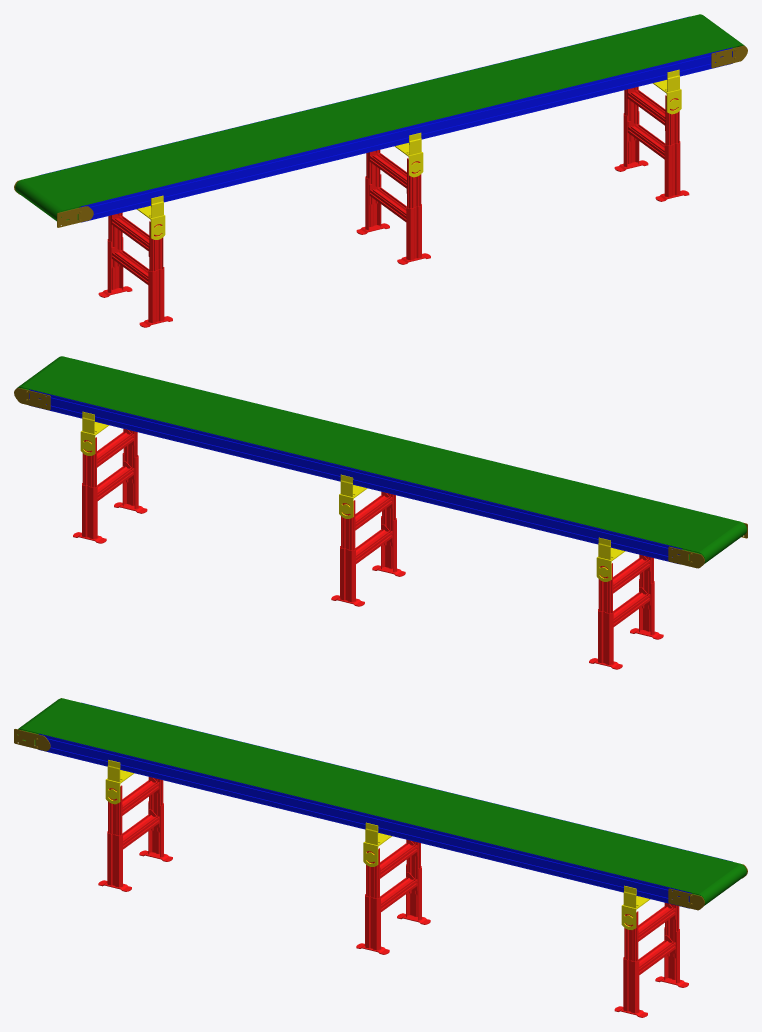
File: Conveyor model-01.FBX
The picture shows the model from 3 angles, top to bottom: view 1: azimuth 30°, elevation 25°; view 2: azimuth 150°, elevation 25°; view 3: azimuth 330°, elevation 25°; orthographic projection.
Parts seen in each view (by area): view 1: Belt, FLAT002, Dorner003, Dorner002, Dorner01, DornerSupport, DornerSupport001, DornerSupport002, NONEZZG003, NONEZZG02, FLAT; view 2: Belt, FLAT, Dorner003, Dorner01, Dorner002, DornerSupport001, DornerSupport002, DornerSupport, NONEZZG004, NONEZZG01; view 3: Belt, FLAT002, Dorner003, Dorner002, Dorner01, DornerSupport, DornerSupport001, DornerSupport002, NONEZZG003, NONEZZG02.
Part boxes in pixels (x1,y1,x2,y2): Belt: [15, 14, 744, 221]; FLAT002: [79, 47, 732, 222]; Dorner003: [614, 86, 689, 201]; Dorner002: [98, 212, 172, 327]; Dorner01: [356, 150, 430, 264]; DornerSupport: [395, 132, 423, 177]; DornerSupport001: [136, 195, 165, 239]; DornerSupport002: [653, 69, 681, 114]; NONEZZG003: [711, 45, 747, 68]; NONEZZG02: [57, 206, 93, 227]; FLAT: [41, 16, 689, 174]; Belt: [17, 356, 746, 563]; FLAT: [29, 389, 682, 564]; Dorner003: [73, 428, 147, 543]; Dorner01: [331, 491, 405, 606]; Dorner002: [589, 554, 663, 669]; DornerSupport001: [596, 537, 625, 581]; DornerSupport002: [80, 411, 108, 455]; DornerSupport: [339, 474, 367, 518]; NONEZZG004: [14, 387, 50, 410]; NONEZZG01: [668, 546, 704, 568]; Belt: [17, 698, 746, 905]; FLAT002: [38, 733, 691, 908]; Dorner003: [614, 903, 688, 1017]; Dorner002: [98, 777, 172, 891]; Dorner01: [356, 839, 430, 954]; DornerSupport: [363, 822, 391, 866]; DornerSupport001: [105, 760, 133, 804]; DornerSupport002: [621, 885, 650, 929]; NONEZZG003: [668, 888, 704, 910]; NONEZZG02: [14, 729, 50, 751].
Bounding box in the file's own units: 171 × 32 × 20.06.
